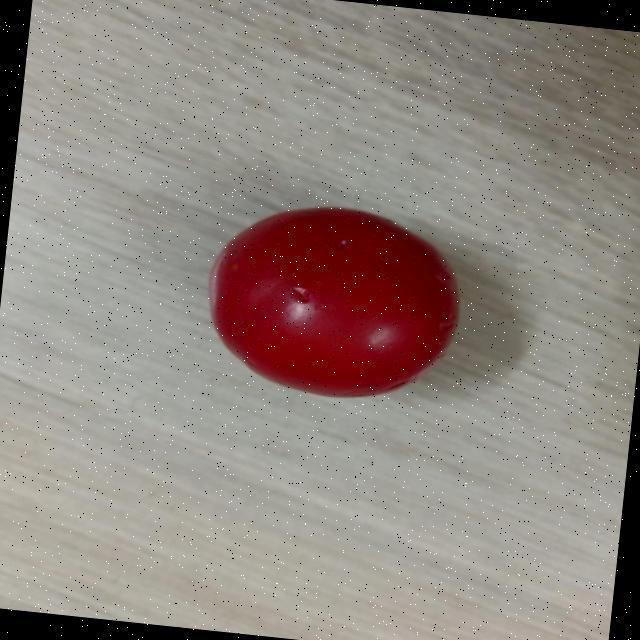Ripe: (193, 189, 474, 415)
